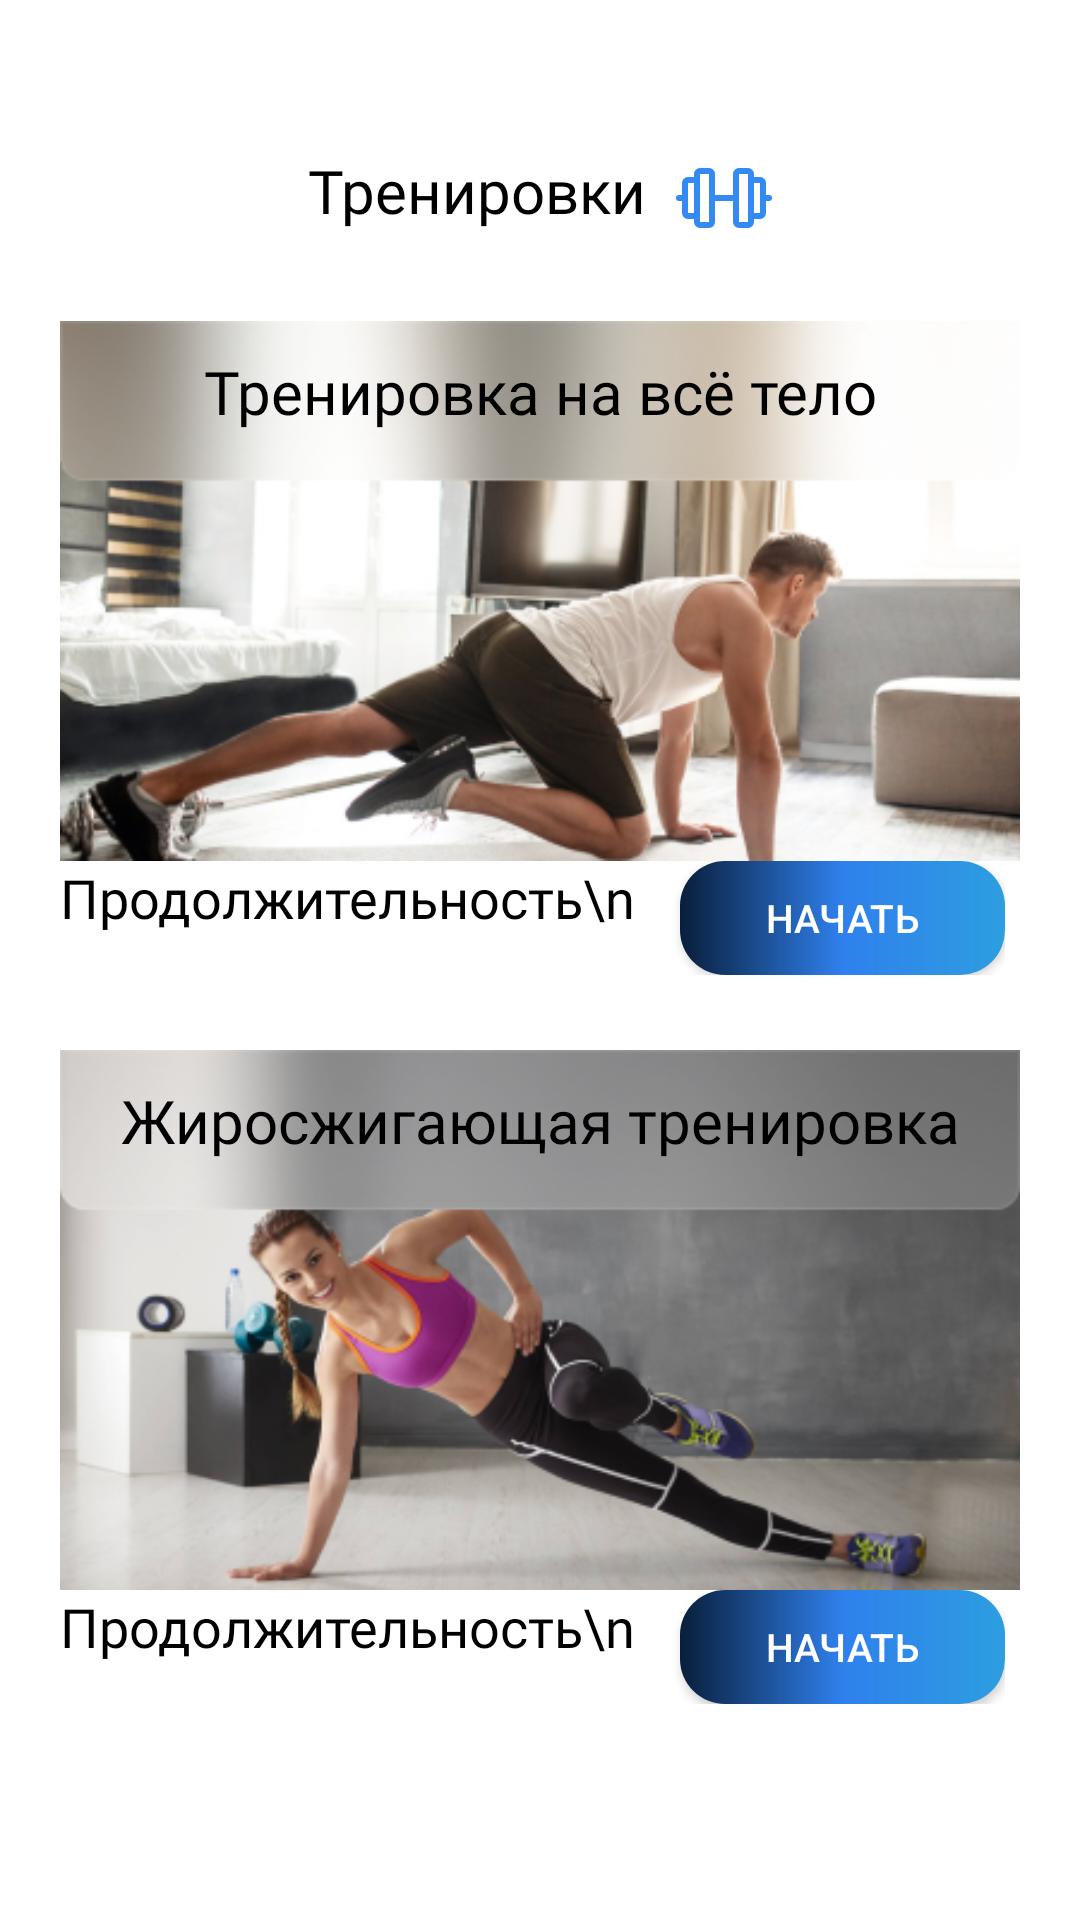

Icon click points for this 1080px×1920px phone screenshot, format (x,y):
worlouts: (724,198)
